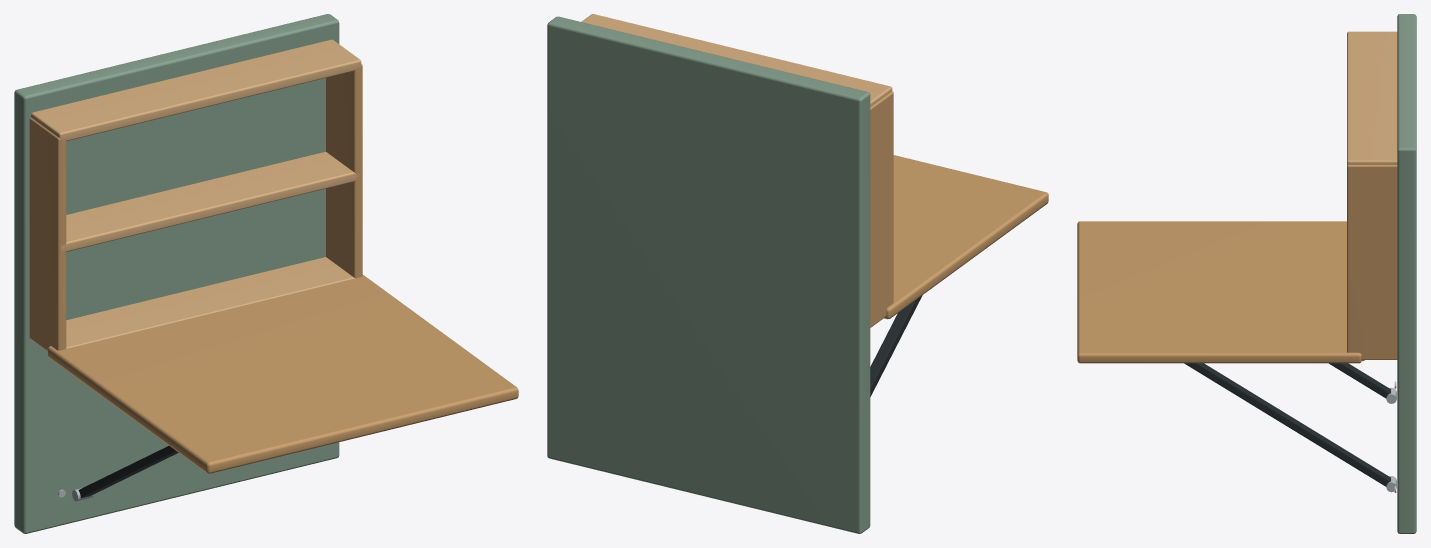
File: wall-drop-leaf-table-open.glb
3 renders of one model, left to right at view 1: azimuth 30°, elevation 25°; view 2: azimuth 150°, elevation 25°; view 3: azimuth 270°, elevation 25°, orthographic. The views are drawn at different scales.
Visible parts, largest first — view 1: wall-drop-leaf-table-open authored assembly; view 2: wall-drop-leaf-table-open authored assembly; view 3: wall-drop-leaf-table-open authored assembly.
Part boxes in pixels (box(x1,y1,x2,y2)): wall-drop-leaf-table-open authored assembly: box(14, 14, 518, 533); wall-drop-leaf-table-open authored assembly: box(547, 14, 1048, 533); wall-drop-leaf-table-open authored assembly: box(1077, 14, 1416, 533).
Bounding box in the file's own units: 0.74 × 0.98 × 0.78.
